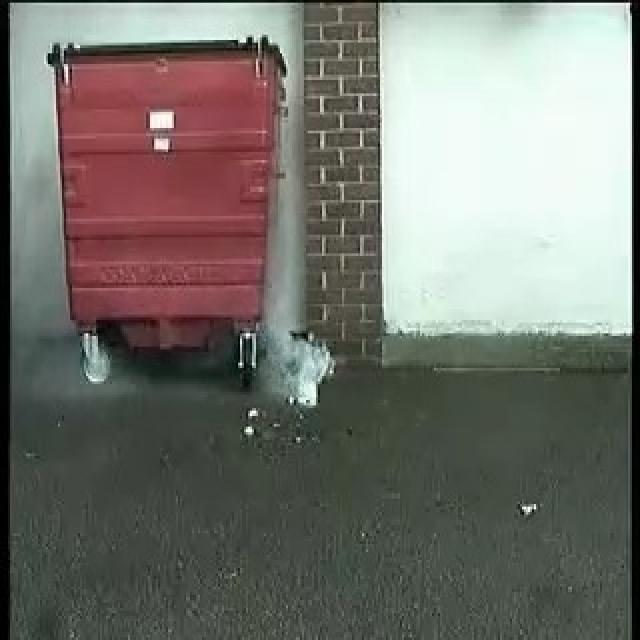smoke: (260, 293, 332, 411)
